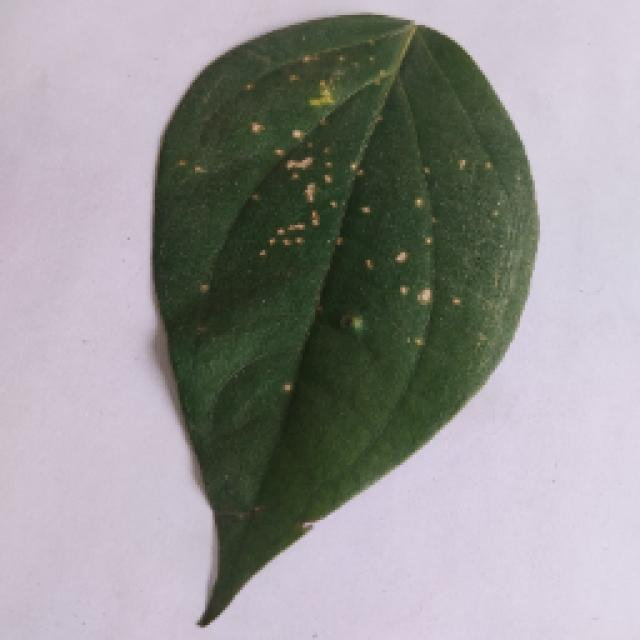pollu-disease: (153, 15, 535, 623)
